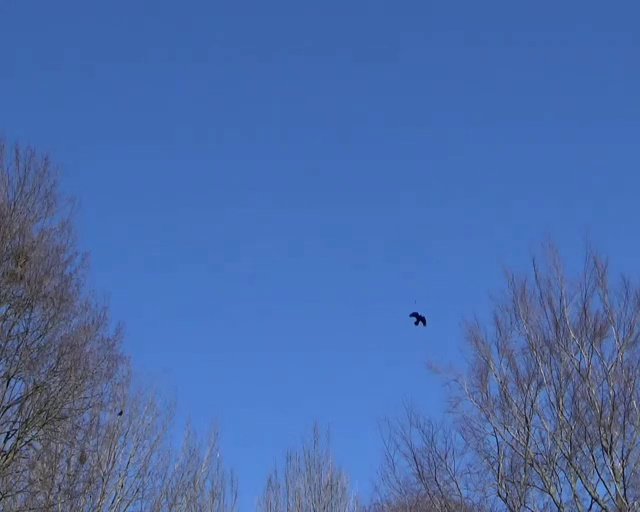BIRD: (409, 313, 426, 327)
